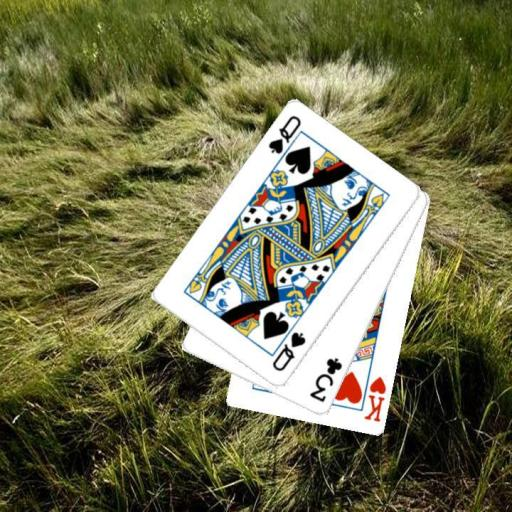3C: (307, 355, 344, 405)
KH: (362, 373, 389, 424)
QS: (269, 329, 307, 374), (265, 113, 303, 157)
